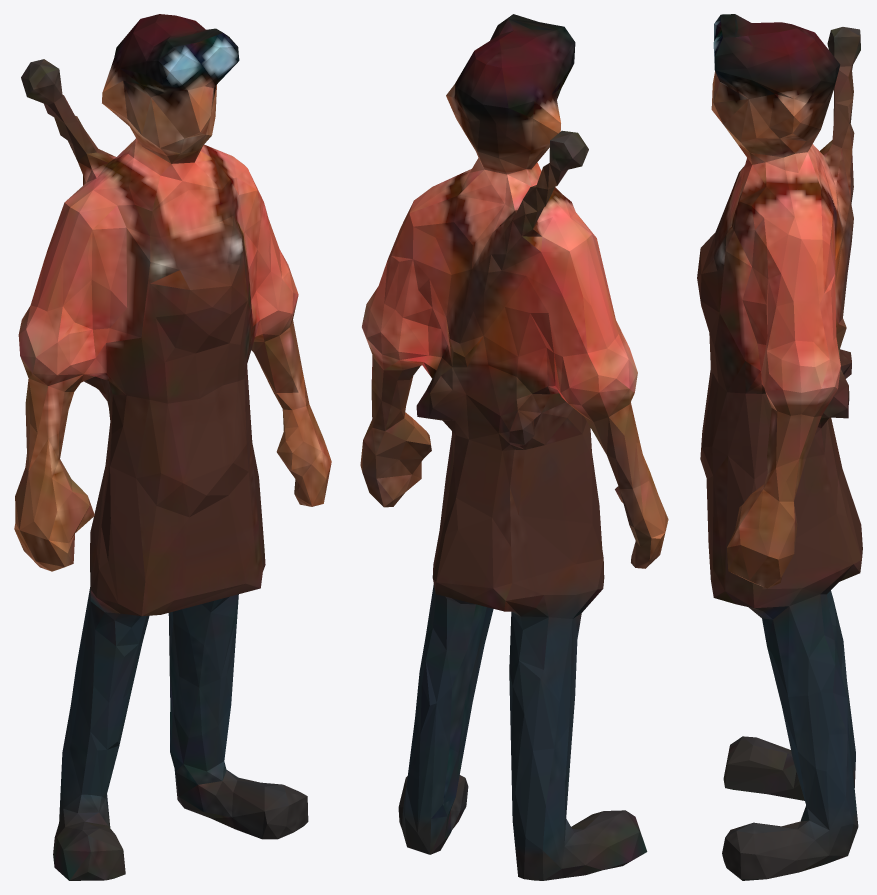
Rendered from habitant-loin.glb.
The picture shows the model from 3 angles, left to right: view 1: azimuth 30°, elevation 25°; view 2: azimuth 150°, elevation 25°; view 3: azimuth 270°, elevation 25°; orthographic projection. The views are drawn at different scales.
Visible parts, largest first — view 1: habitant; view 2: habitant; view 3: habitant.
Boxes of the visible parts, x1,y1,x2,y2 form: habitant: (14,14,331,880); habitant: (360,14,668,880); habitant: (697,14,862,880).
Size of the model in its own units: 0.3946 by 1.01 by 0.1885.
Materials: 1 (1 with a texture image).
